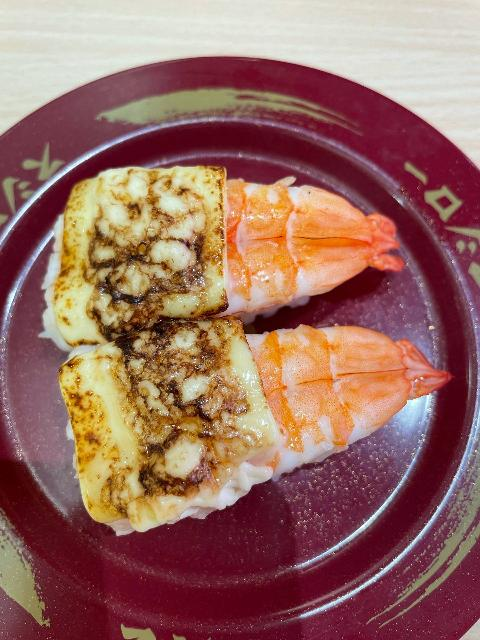janred: (3, 71, 467, 640)
